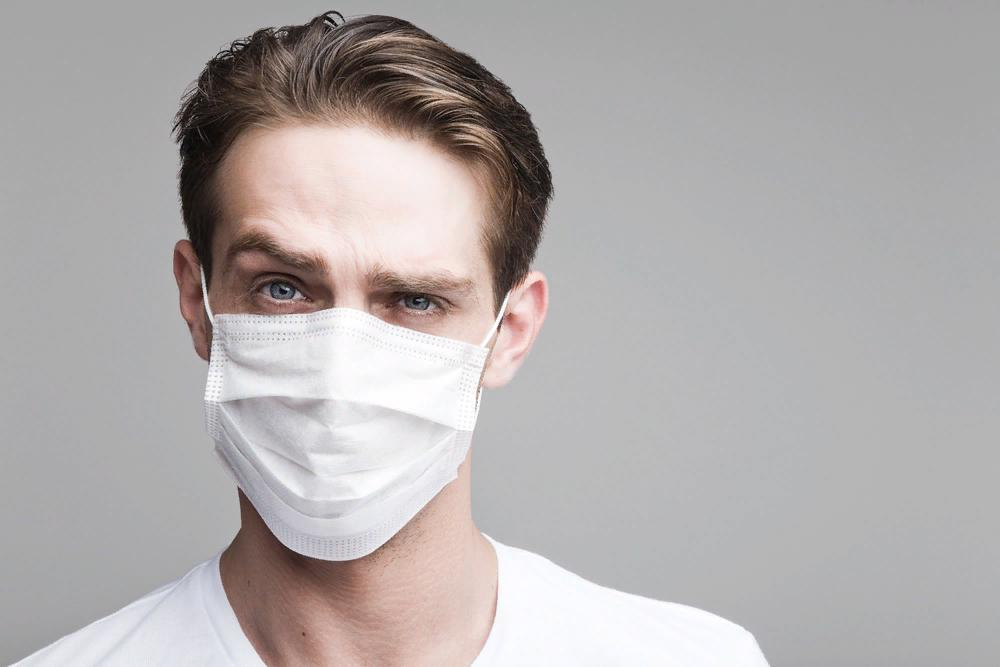mask: (179, 132, 514, 565)
